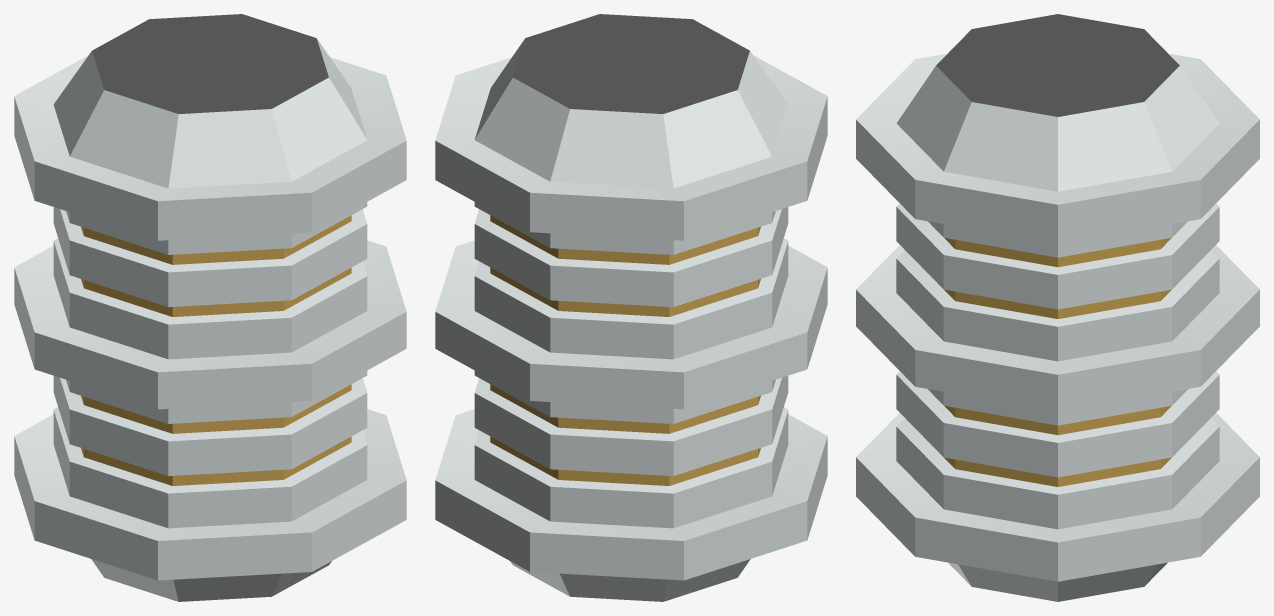
The model's file is highTowerMiddle.fbx.
3 views of the same model, side by side, from view 1: azimuth 30°, elevation 25°; view 2: azimuth 150°, elevation 25°; view 3: azimuth 270°, elevation 25° (orthographic).
Visible parts, largest first — view 1: pCylinder1; view 2: pCylinder1; view 3: pCylinder1.
Boxes of the visible parts, x1=… form: pCylinder1: x1=14, y1=14, x2=406, y2=601; pCylinder1: x1=435, y1=14, x2=827, y2=601; pCylinder1: x1=856, y1=14, x2=1259, y2=601.
Bounding box in the file's own units: 7.5 × 9.94 × 7.5.
Materials: 1 (1 with a texture image).
